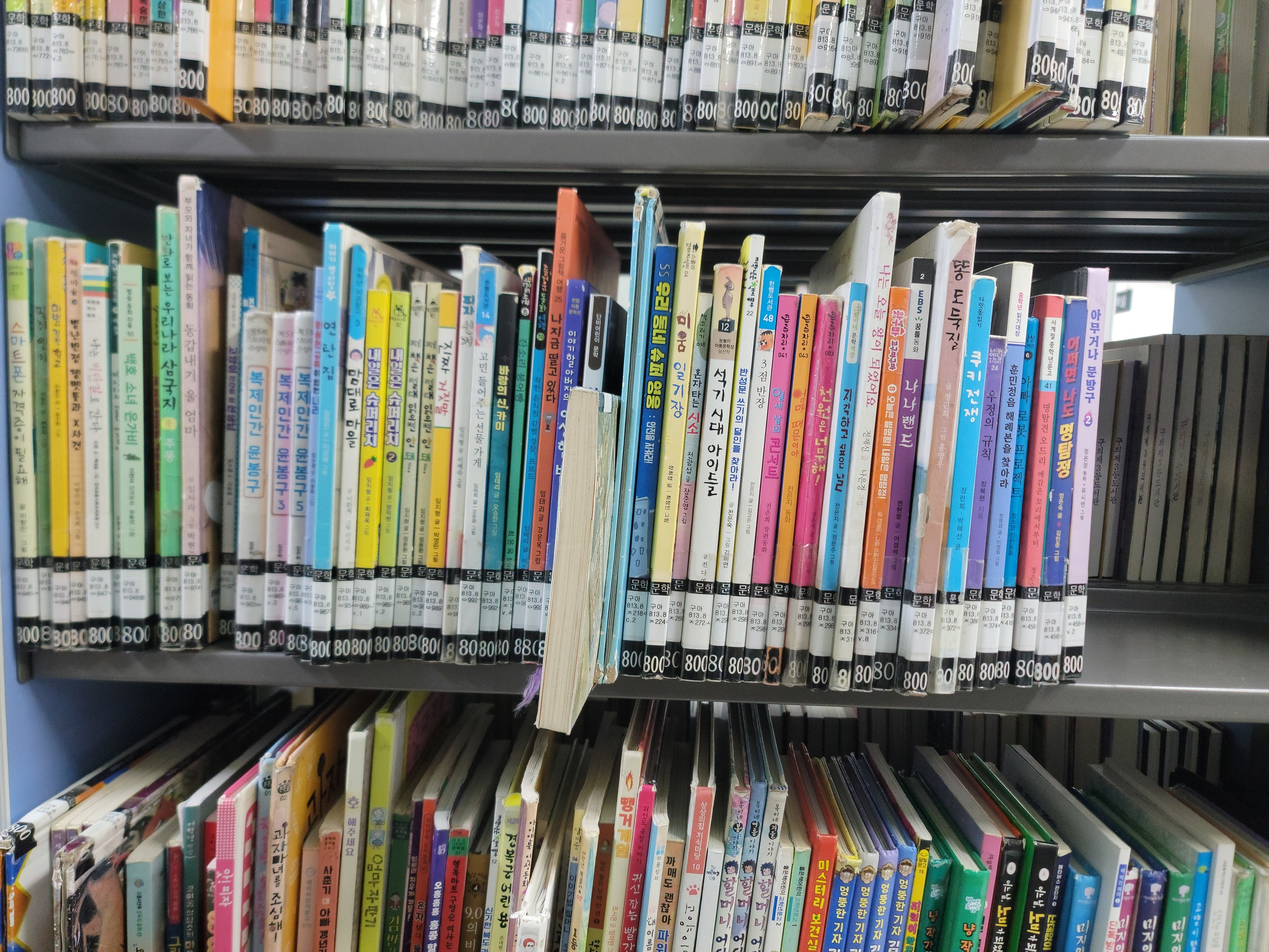book-spine: (829, 193, 900, 693), (904, 225, 977, 697), (641, 222, 703, 682), (871, 263, 936, 690), (705, 235, 765, 685), (680, 263, 743, 681), (932, 275, 994, 694), (619, 242, 678, 679), (522, 188, 574, 669), (807, 283, 868, 692), (974, 259, 1031, 690), (723, 265, 781, 683), (851, 289, 911, 689), (783, 299, 844, 686), (1057, 268, 1109, 695), (742, 296, 798, 684), (762, 295, 818, 681), (1011, 297, 1065, 693), (1033, 297, 1086, 694), (661, 292, 714, 678), (535, 282, 585, 669), (953, 333, 1007, 691), (509, 245, 554, 668), (993, 309, 1040, 692), (438, 246, 480, 666), (455, 264, 499, 662), (494, 260, 536, 667), (0, 221, 39, 652), (476, 288, 519, 664), (331, 245, 369, 664), (349, 286, 390, 662), (309, 226, 344, 666), (369, 291, 409, 662), (389, 283, 426, 662), (422, 287, 459, 661), (406, 284, 441, 660), (81, 264, 114, 652), (233, 307, 270, 653), (177, 178, 204, 652), (261, 312, 295, 656), (281, 306, 313, 657), (27, 238, 54, 653), (119, 266, 148, 651), (44, 237, 70, 652), (62, 239, 88, 653), (157, 205, 181, 652), (612, 350, 645, 673), (216, 276, 244, 654), (299, 271, 325, 659), (617, 190, 659, 416), (581, 393, 613, 686), (597, 383, 629, 670), (595, 401, 627, 681), (589, 394, 620, 672), (617, 189, 651, 396), (107, 247, 122, 648), (237, 225, 262, 410), (627, 323, 647, 490), (580, 292, 612, 392), (616, 322, 635, 456)
